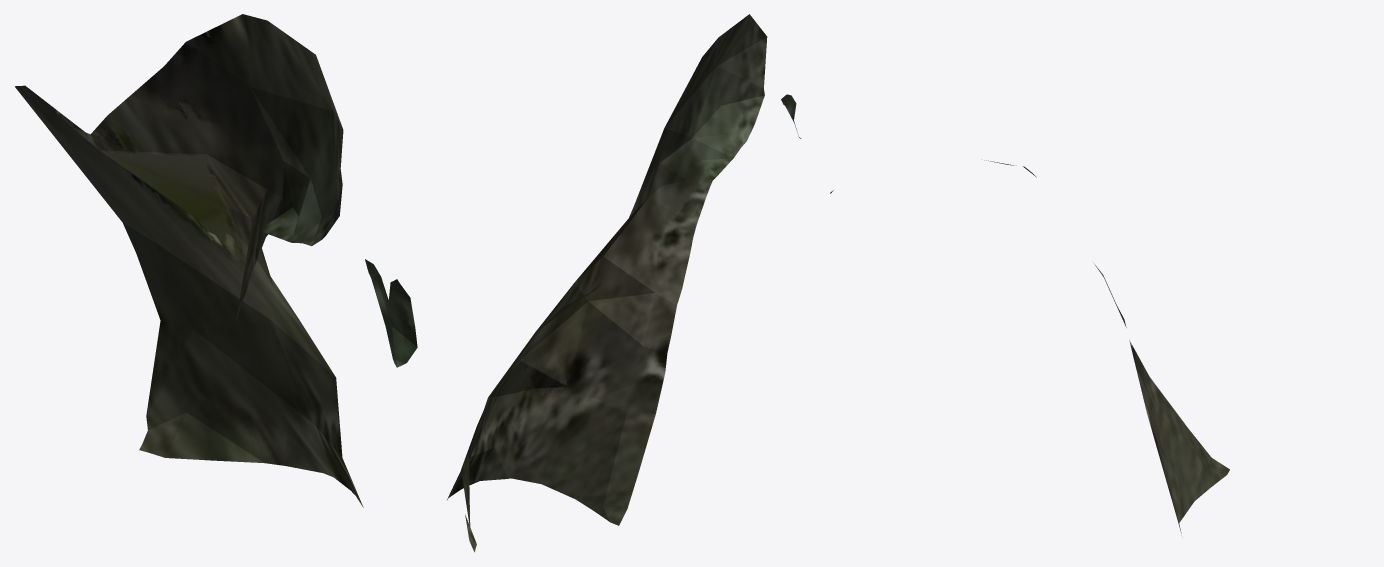
3 views of the same model, side by side, from view 1: azimuth 30°, elevation 25°; view 2: azimuth 150°, elevation 25°; view 3: azimuth 270°, elevation 25° (orthographic). The views are drawn at different scales.
Bounding box in the file's own units: 1.08 × 2.75 × 2.95.
2 materials, 2 textured.
